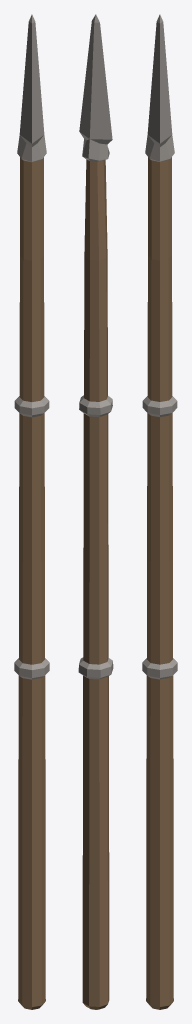
The model's file is SM_pwe_medieval_spear_02b.fbx.
3 renders of one model, left to right at view 1: azimuth 90°, elevation 25°; view 2: azimuth 150°, elevation 25°; view 3: azimuth 270°, elevation 25°, orthographic.
Visible parts, largest first — view 1: SM_pwe_medieval_spear_02b; view 2: SM_pwe_medieval_spear_02b; view 3: SM_pwe_medieval_spear_02b.
Part boxes in pixels (bbox=[...]): SM_pwe_medieval_spear_02b: bbox=[14, 14, 49, 1009]; SM_pwe_medieval_spear_02b: bbox=[78, 14, 113, 1009]; SM_pwe_medieval_spear_02b: bbox=[142, 14, 177, 1009].
Size of the model in its own units: 6.79 by 194 by 6.3.
